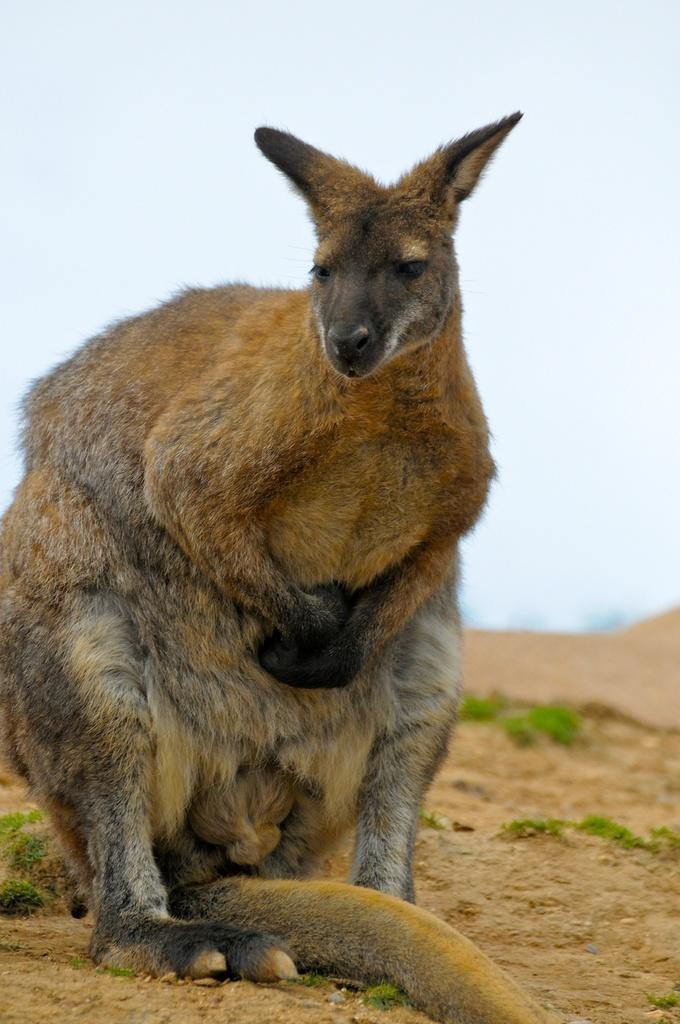kangaroo: (0, 101, 567, 1023)
